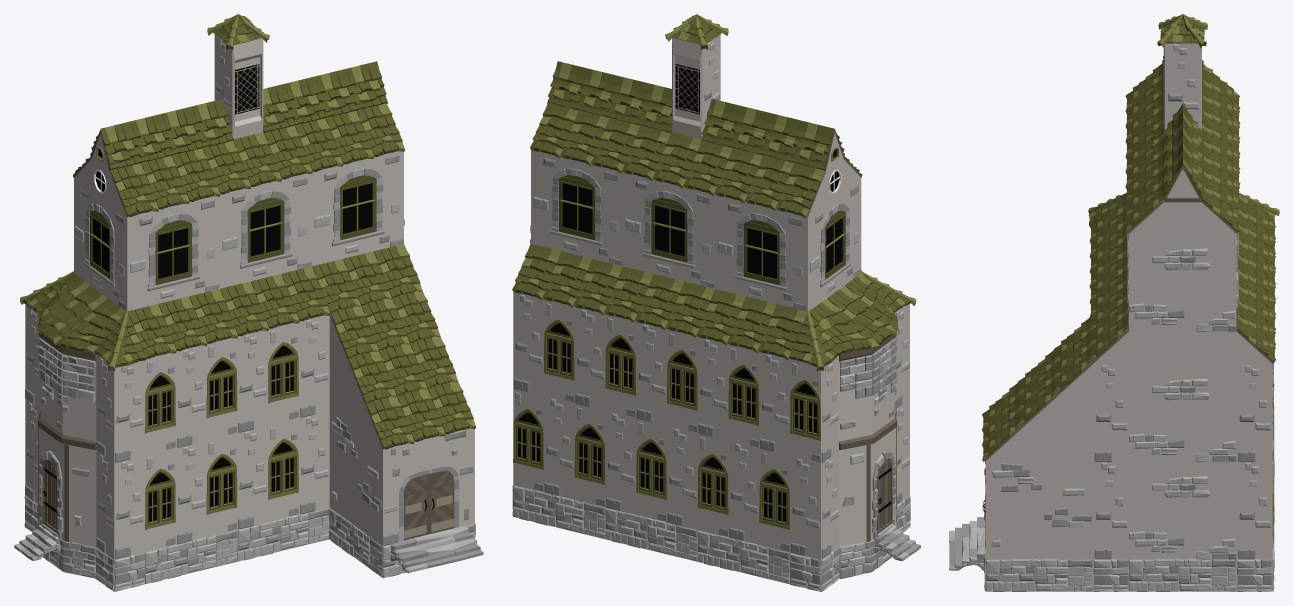
The model's file is House_08.glb.
3 views of the same model, side by side, from view 1: azimuth 30°, elevation 25°; view 2: azimuth 150°, elevation 25°; view 3: azimuth 270°, elevation 25° (orthographic).
Visible parts, largest first — view 1: DOOR_02_3, WINDOW_05_12, WINDOW_05_11, WINDOW_05_10, BALKON_04_2, BALKON_02_2, WALL_01_2, WINDOW_05_13, ROOF_base_round_2, WINDOW_01_03, WALL_06_5, WALL_06_3 (+66 smaller); view 2: WINDOW_05_14, WINDOW_05_15, WINDOW_05_16, BALKON_04_2, BALKON_02_2, WINDOW_05_13, ROOF_base_round_2, WALL_06_25, WALL_06_23, WINDOW_01_11, WINDOW_01_13, WALL_06_22 (+58 smaller); view 3: WALL_01_3, WALL_03_2, WALL_03_3, WALL_03_4, WALL_06_16, WALL_06_17, FOUNDATION_03_10, FOUNDATION_03_9, WALL_06_18, WALL_06_15, WALL_06_33, STAIRS_04_3 (+65 smaller).
Boxes of the visible parts, bbox=[...] form: DOOR_02_3: bbox=[383, 428, 474, 545]; WINDOW_05_12: bbox=[311, 151, 403, 266]; WINDOW_05_11: bbox=[219, 173, 311, 289]; WINDOW_05_10: bbox=[127, 196, 219, 310]; BALKON_04_2: bbox=[38, 426, 96, 546]; BALKON_02_2: bbox=[38, 332, 96, 449]; WALL_01_2: bbox=[329, 411, 382, 545]; WINDOW_05_13: bbox=[74, 178, 128, 310]; ROOF_base_round_2: bbox=[37, 272, 125, 353]; WINDOW_01_03: bbox=[206, 433, 237, 536]; WALL_06_5: bbox=[175, 440, 206, 544]; WALL_06_3: bbox=[298, 410, 329, 514]; WINDOW_05_14: bbox=[715, 195, 808, 310]; WINDOW_05_15: bbox=[623, 172, 715, 289]; WINDOW_05_16: bbox=[531, 149, 623, 266]; BALKON_04_2: bbox=[839, 427, 896, 546]; BALKON_02_2: bbox=[839, 333, 897, 449]; WINDOW_05_13: bbox=[808, 178, 861, 309]; ROOF_base_round_2: bbox=[809, 272, 898, 353]; WALL_06_25: bbox=[605, 410, 636, 514]; WALL_06_23: bbox=[728, 440, 759, 544]; WINDOW_01_11: bbox=[759, 448, 790, 551]; WINDOW_01_13: bbox=[636, 418, 667, 521]; WALL_06_22: bbox=[759, 352, 790, 455]; WALL_01_3: bbox=[985, 461, 1093, 558]; WALL_03_2: bbox=[1129, 461, 1236, 559]; WALL_03_3: bbox=[1129, 364, 1236, 461]; WALL_03_4: bbox=[1129, 234, 1236, 331]; WALL_06_16: bbox=[1236, 461, 1272, 559]; WALL_06_17: bbox=[1236, 364, 1272, 461]; FOUNDATION_03_10: bbox=[985, 559, 1093, 591]; FOUNDATION_03_9: bbox=[1129, 559, 1236, 591]; WALL_06_18: bbox=[1093, 364, 1128, 461]; WALL_06_15: bbox=[1093, 461, 1128, 559]; WALL_06_33: bbox=[1165, 43, 1200, 129]; STAIRS_04_3: bbox=[949, 517, 985, 570].
Bounding box in the file's own units: 11.58 × 15.66 × 9.22.
Materials: 1 (1 with a texture image).
